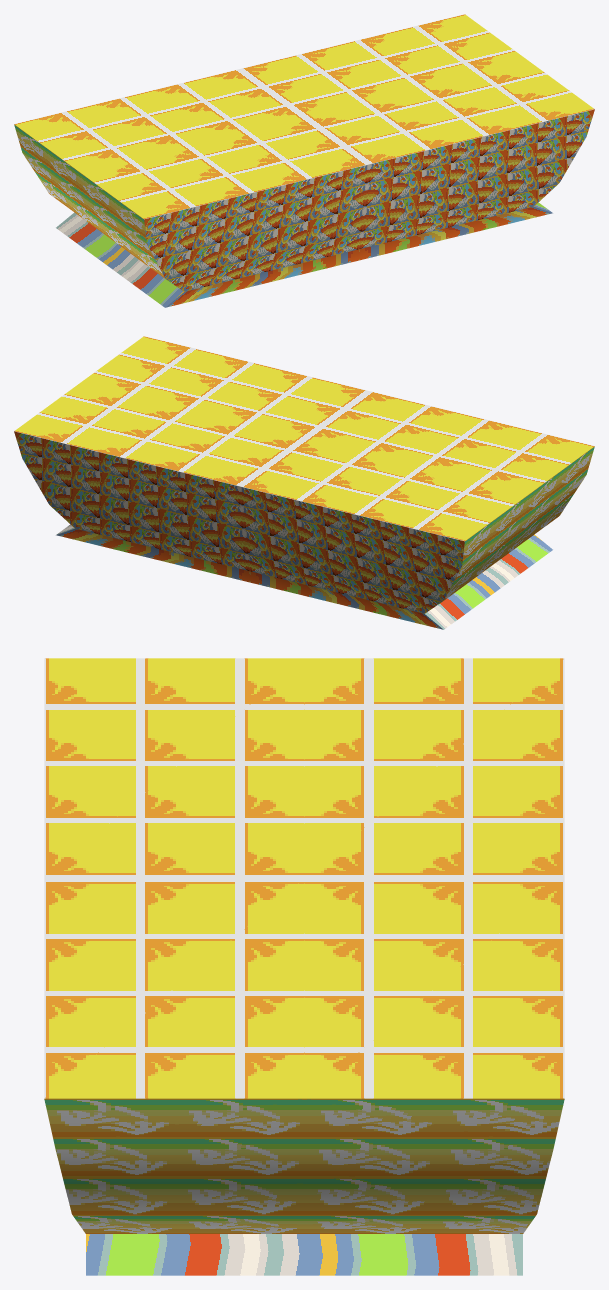
Rendered from 3653kg_case_20.gltf.
3 views of the same model, one above another, from view 1: azimuth 30°, elevation 25°; view 2: azimuth 150°, elevation 25°; view 3: azimuth 270°, elevation 25° (orthographic). The views are drawn at different scales.
Visible parts, largest first — view 1: 3653kg_case_20; view 2: 3653kg_case_20; view 3: 3653kg_case_20.
Boxes of the visible parts, x1=… form: 3653kg_case_20: x1=14, y1=14, x2=594, y2=307; 3653kg_case_20: x1=14, y1=336, x2=594, y2=629; 3653kg_case_20: x1=44, y1=658, x2=564, y2=1275.
Size of the model in its own units: 2 by 0.4399 by 1.
Materials: 3 (3 with a texture image).
